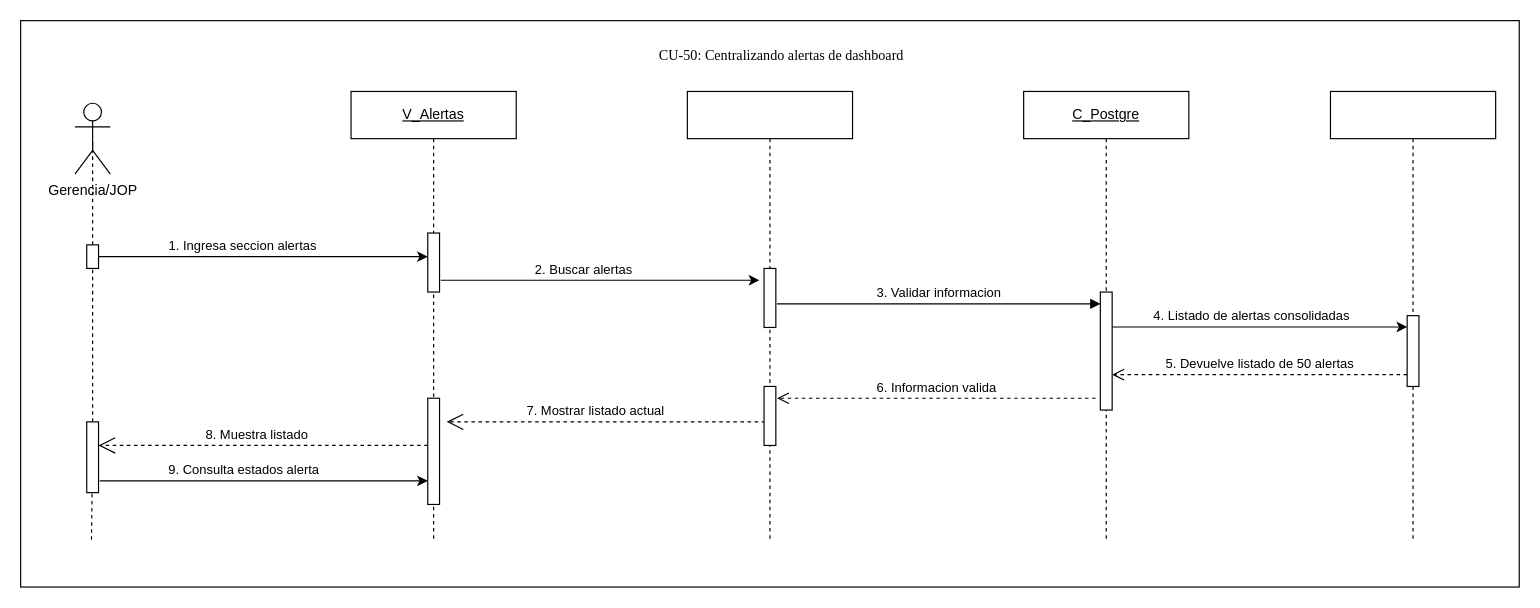
Some shapes in this 1540 by 608 pixel diagram are drawn without their labels. The centre of each missing label's shape, as x and y in pixels:
"C_ alerta" belongs at (x=769, y=315).
"Historial_Alerta" belongs at (x=1412, y=315).
